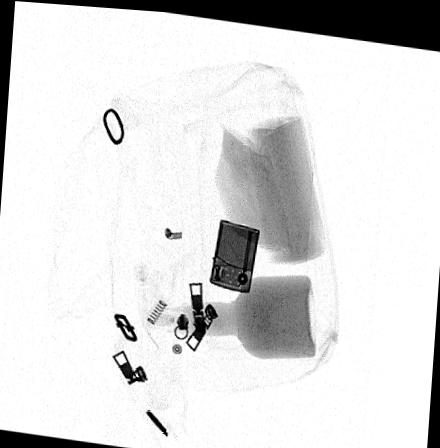Lighter: (208, 214, 260, 290)
